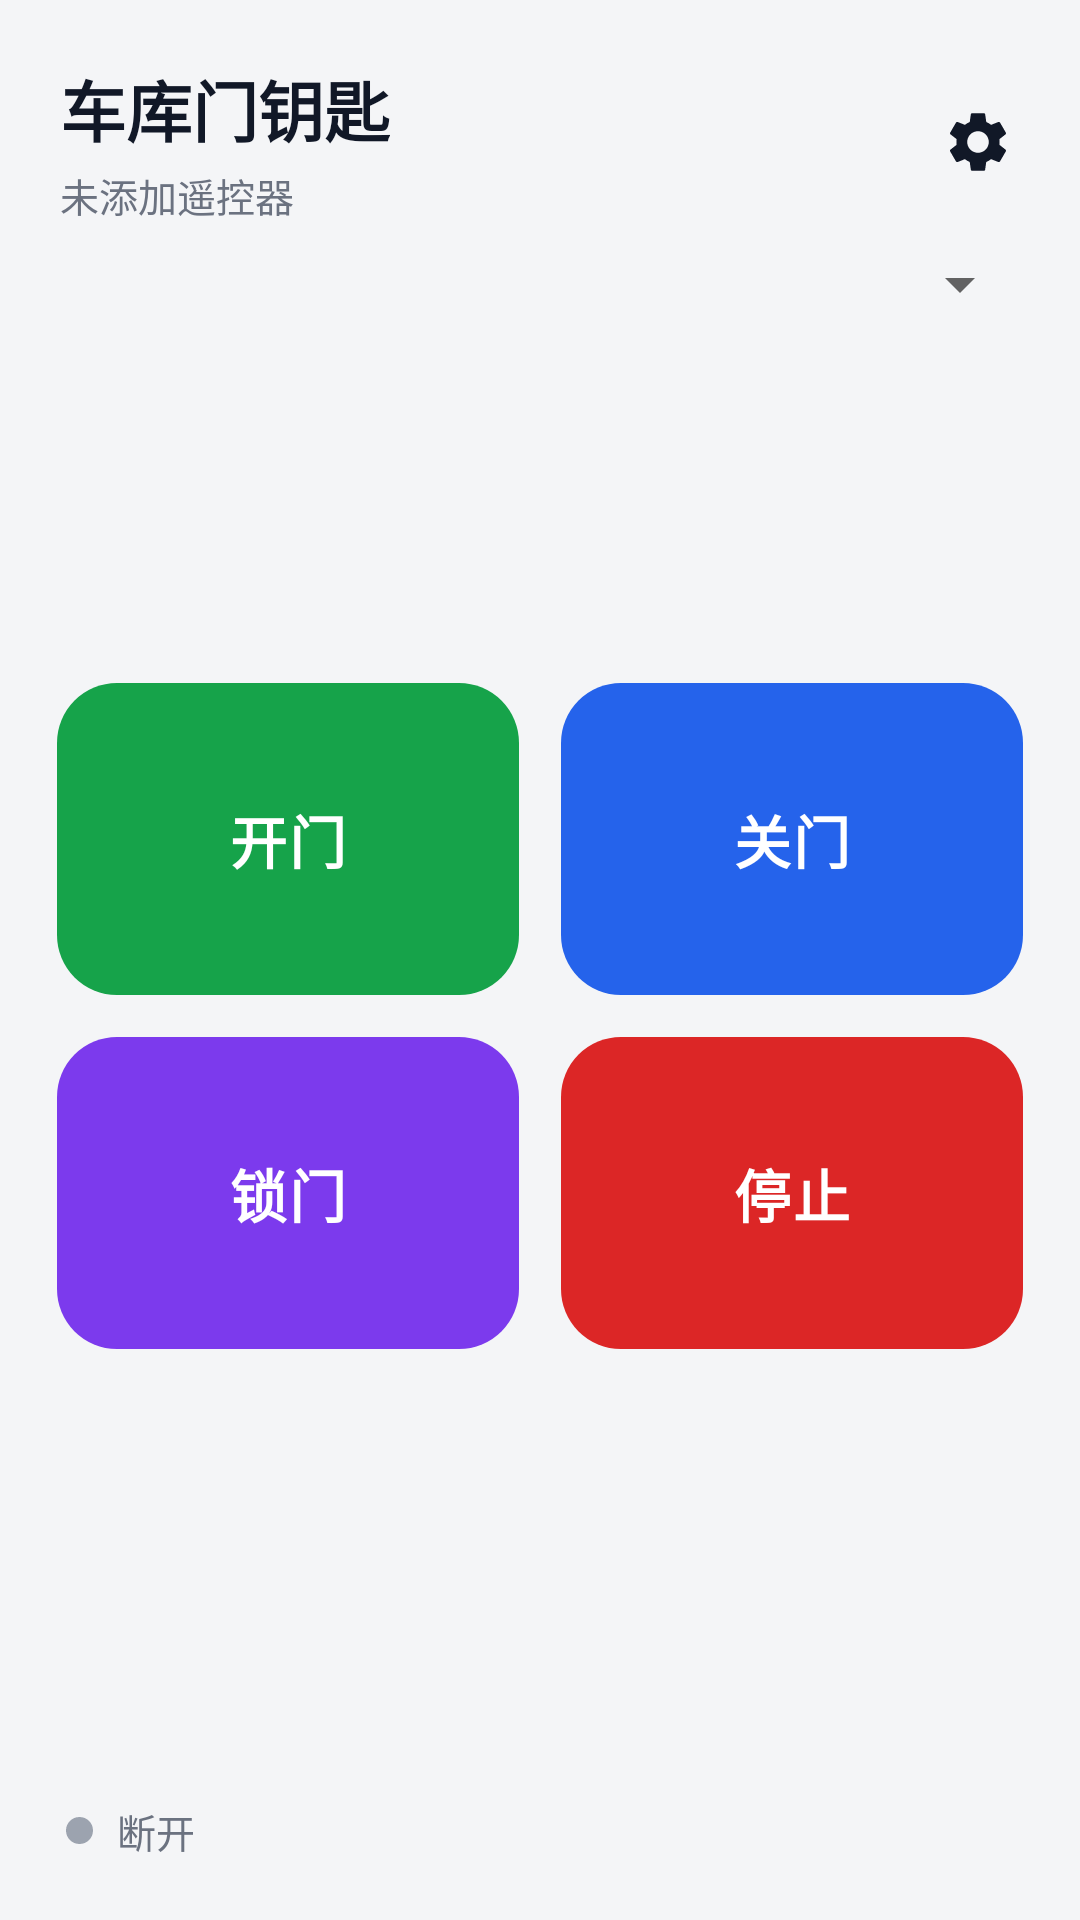

Named icons in this screenshot (1080px×1920px) and their centers, point (x, y):
设置: point (978, 142)
